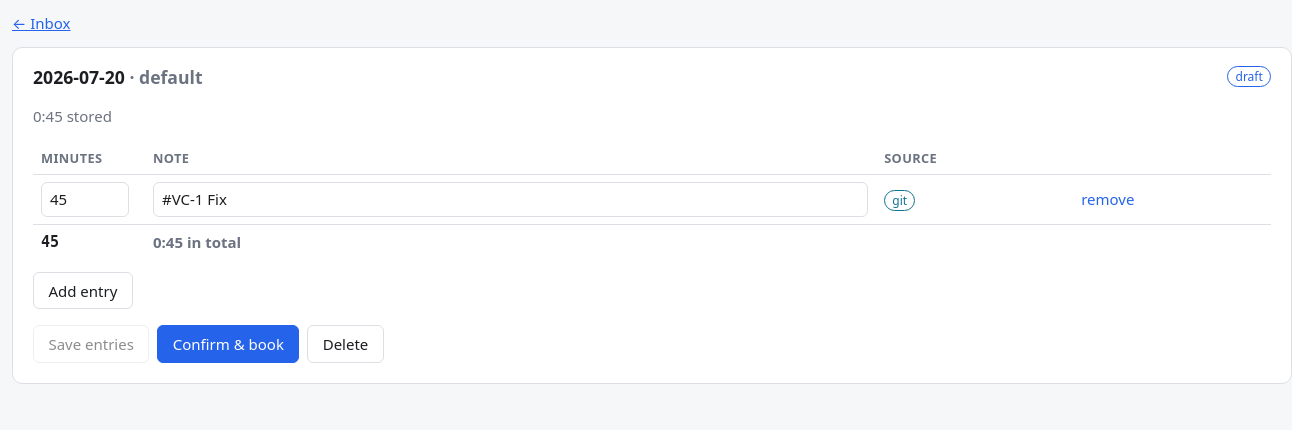
Scenario: ProposalDetail › refuses to save an entry of zero minutes
Expected: the field showing "#VC-1 Fix" is shown, [153, 182, 868, 218]
Step 1. Clear the number field → [85, 200], box [41, 182, 129, 218]
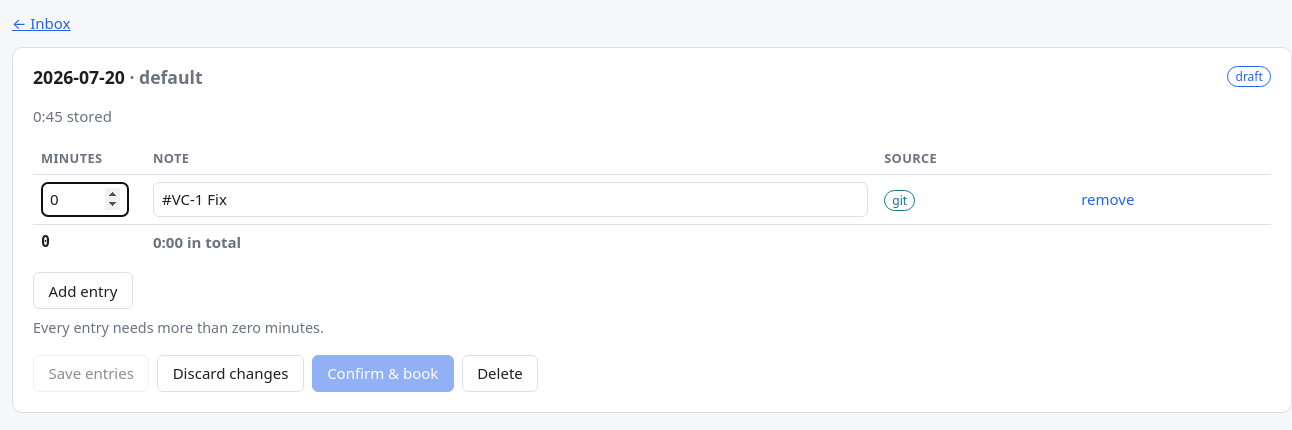
Expected: the button "Save entries" is disabled, [33, 355, 149, 392]
Now the text "Every entry needs more than zero minutes." is shown, box [33, 318, 324, 337]
